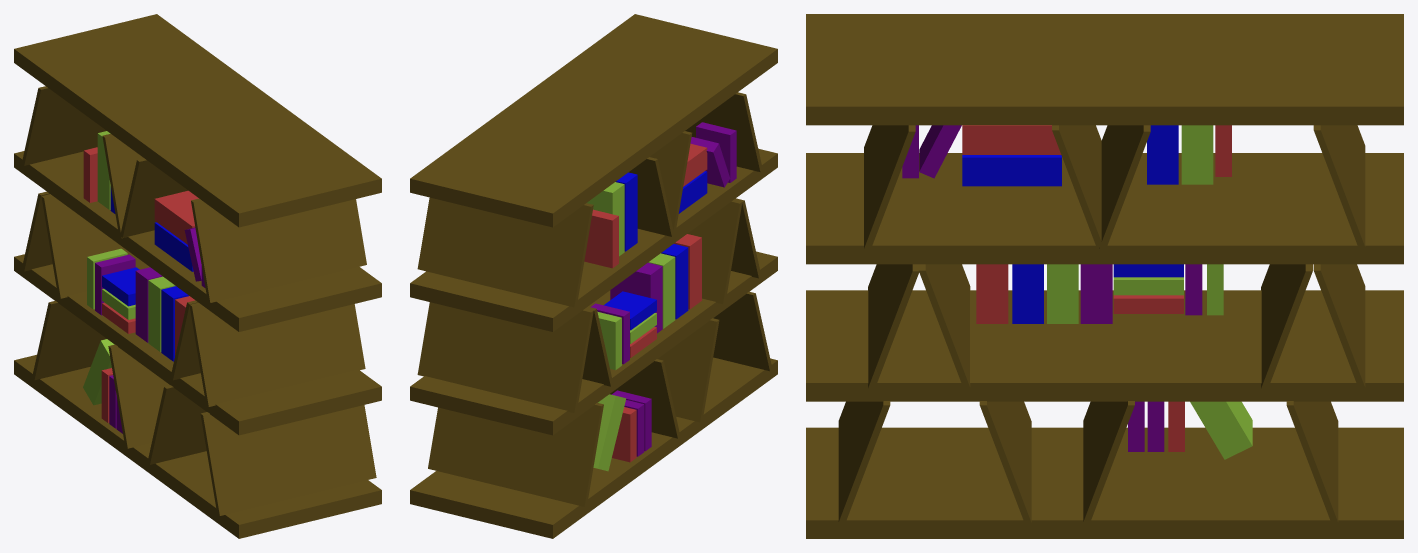
Rendered from shelfnbook.fbx.
3 renders of one model, left to right at view 1: azimuth 30°, elevation 25°; view 2: azimuth 150°, elevation 25°; view 3: azimuth 270°, elevation 25°, orthographic. The views are drawn at different scales.
Parts seen in each view (by area): view 1: pCube27, pCube14, pCube24, pCube17, pCube21, pCube11, pCube16, pCube20, pCube22, pCube13, pCube12, pCube15 (+20 smaller); view 2: pCube27, pCube19, pCube22, pCube11, pCube12, pCube21, pCube16, pCube15, pCube14, pCube18, pCube13, pCube24 (+22 smaller); view 3: pCube27, pCube11, pCube21, pCube16, pCube19, pCube20, pCube17, pCube24, pCube22, pCube12, pCube18, pCube14 (+23 smaller).
Boxes of the visible parts, <box> form: pCube27: <box>14,14,381,227</box>; pCube14: <box>200,405,376,515</box>; pCube24: <box>191,198,366,302</box>; pCube17: <box>189,302,365,406</box>; pCube21: <box>14,151,381,331</box>; pCube11: <box>14,354,381,538</box>; pCube16: <box>14,254,381,435</box>; pCube20: <box>41,194,149,298</box>; pCube22: <box>21,86,106,165</box>; pCube13: <box>108,344,169,448</box>; pCube12: <box>32,300,106,380</box>; pCube15: <box>147,385,206,464</box>; pCube27: <box>410,14,777,227</box>; pCube19: <box>417,302,593,412</box>; pCube22: <box>417,197,593,307</box>; pCube11: <box>410,357,777,538</box>; pCube12: <box>428,402,603,506</box>; pCube21: <box>410,148,777,331</box>; pCube16: <box>410,251,777,435</box>; pCube15: <box>658,318,719,422</box>; pCube14: <box>713,291,772,371</box>; pCube18: <box>687,199,742,304</box>; pCube13: <box>609,359,680,438</box>; pCube24: <box>685,92,762,172</box>; pCube27: <box>806,14,1403,125</box>; pCube11: <box>806,427,1403,538</box>; pCube21: <box>806,153,1403,264</box>; pCube16: <box>806,290,1403,401</box>; pCube19: <box>1313,264,1365,387</box>; pCube20: <box>1261,264,1312,388</box>; pCube17: <box>868,264,919,388</box>; pCube24: <box>864,125,915,248</box>; pCube22: <box>1313,125,1365,247</box>; pCube12: <box>1286,401,1338,522</box>; pCube18: <box>918,264,970,387</box>; pCube14: <box>838,401,890,522</box>.
Bounding box in the file's own units: 5.23 × 10.38 × 13.
